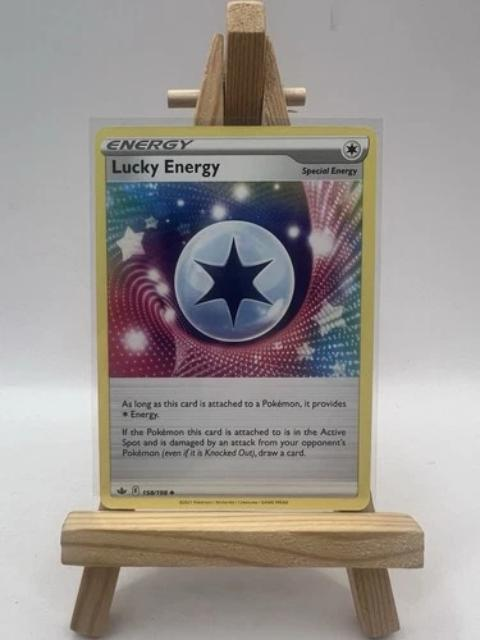Card: (90, 121, 381, 516)
Name: (102, 156, 230, 181)
